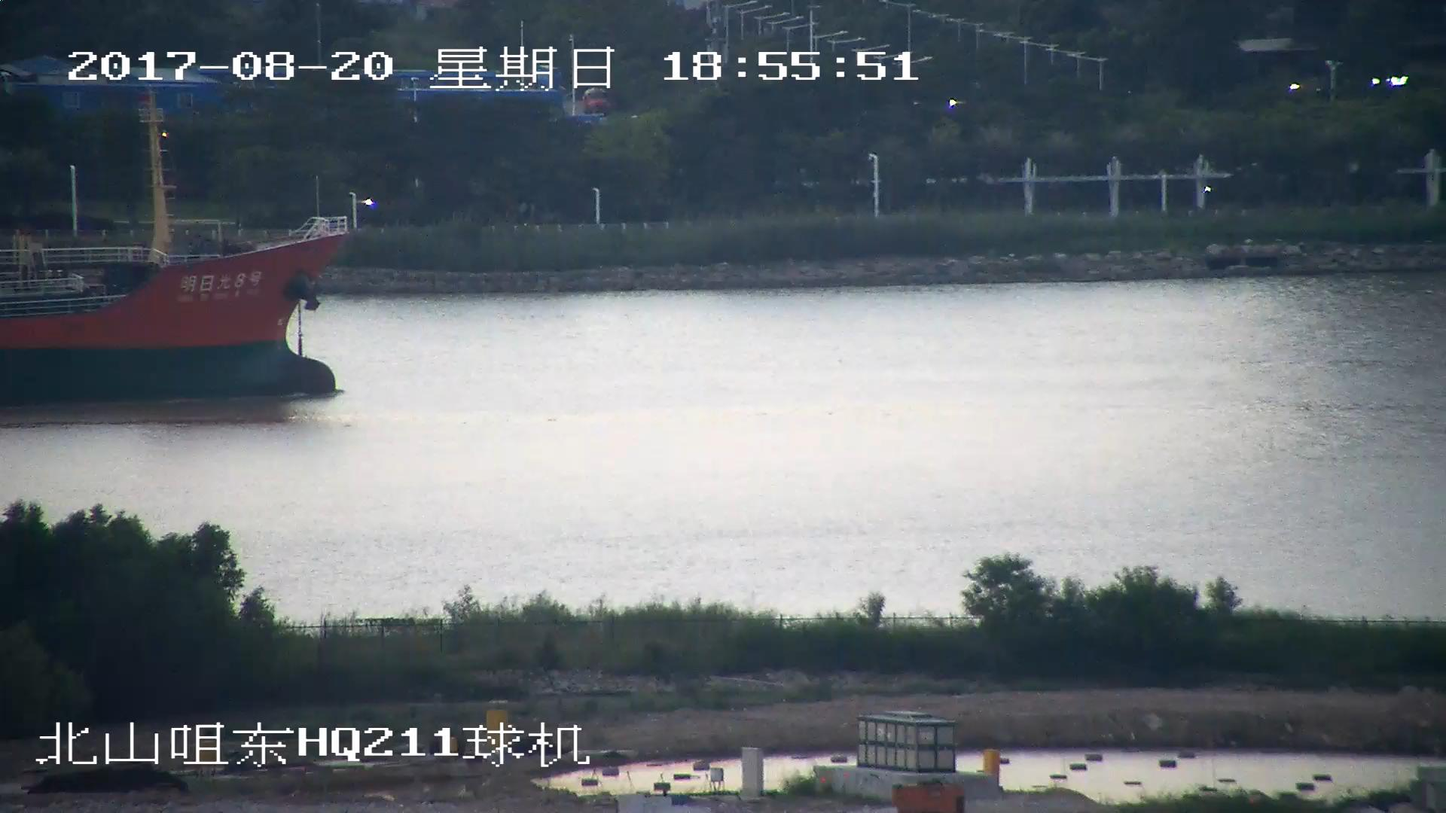general cargo ship: (0, 114, 354, 401)
